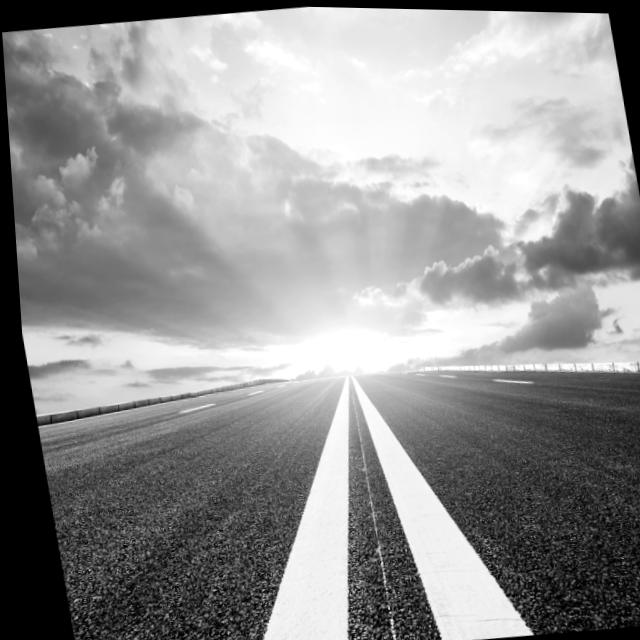cleat: (77, 281, 640, 640)
